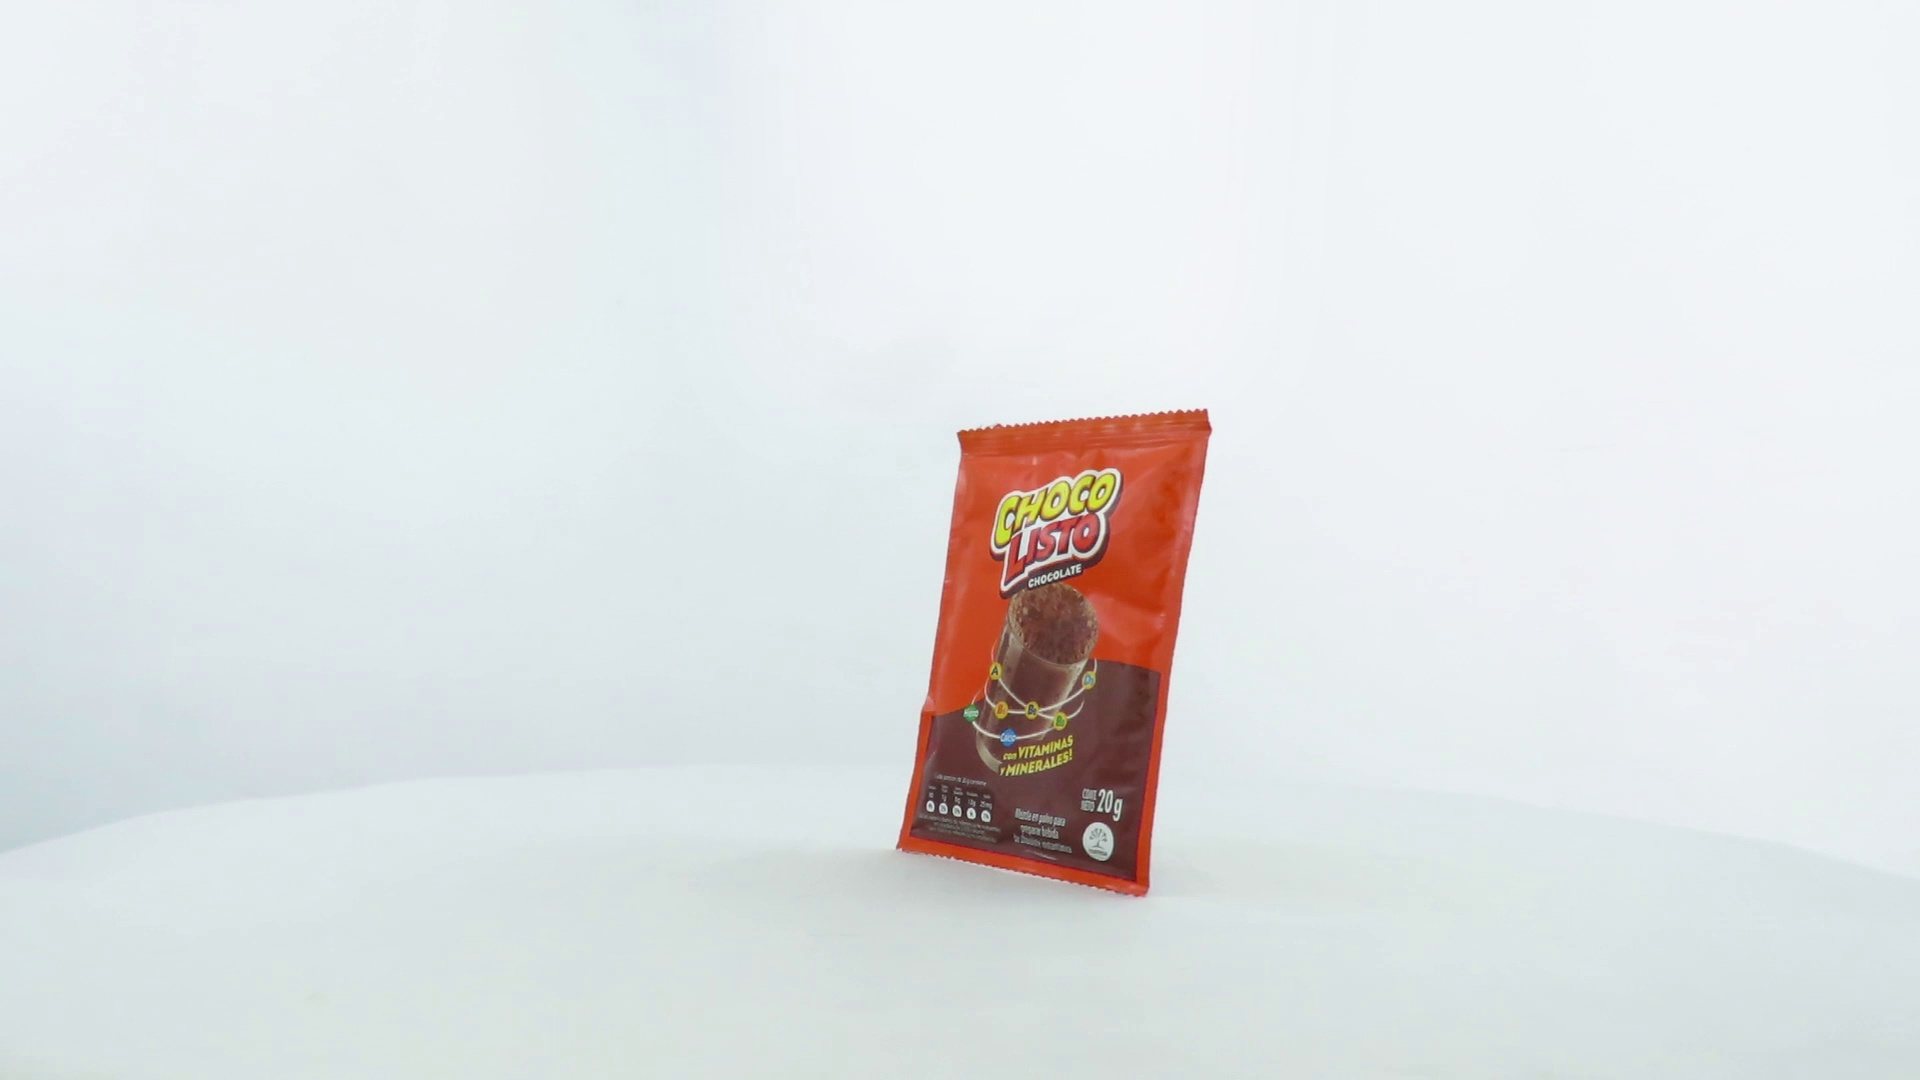COL0170103SOB02000: (890, 404, 1218, 905)
